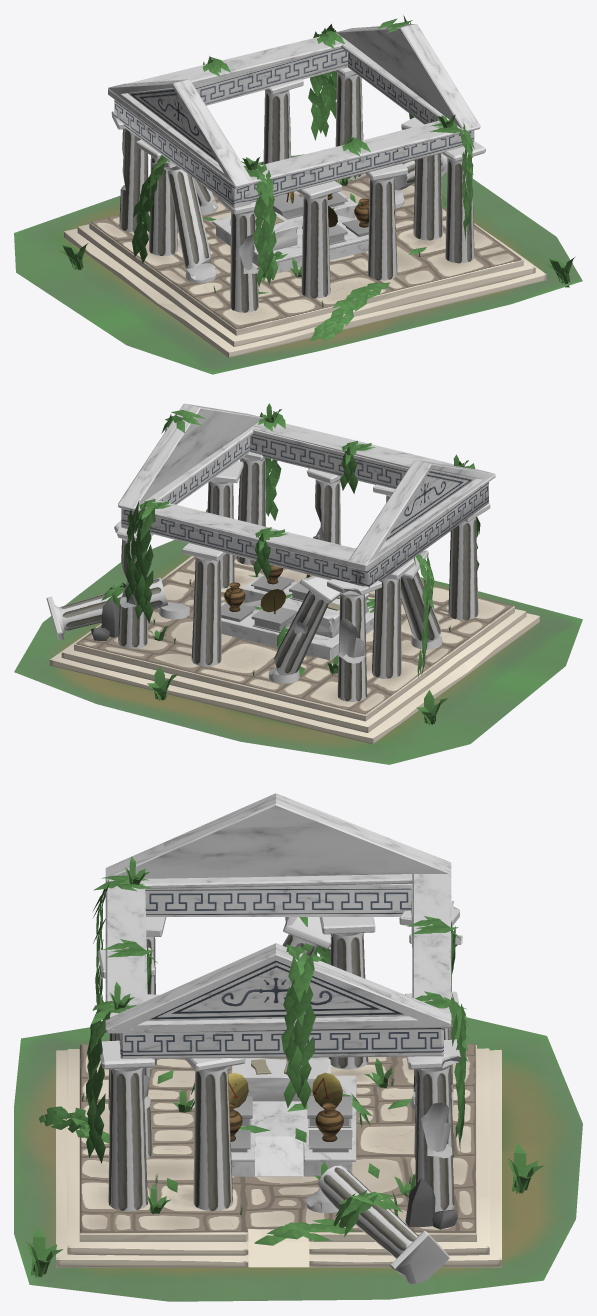
3 views of the same model, one above another, from view 1: azimuth 30°, elevation 25°; view 2: azimuth 150°, elevation 25°; view 3: azimuth 270°, elevation 25° (orthographic). The views are drawn at different scales.
Parts seen in each view (by area): view 1: Building_Material #108_0, Building_Material #109_0; view 2: Building_Material #108_0, Building_Material #109_0; view 3: Building_Material #108_0, Building_Material #109_0.
Boxes of the visible parts, x1=… form: Building_Material #108_0: x1=14, y1=15, x2=582, y2=374; Building_Material #109_0: x1=89, y1=173, x2=523, y2=335; Building_Material #108_0: x1=14, y1=403, x2=582, y2=764; Building_Material #109_0: x1=74, y1=555, x2=514, y2=721; Building_Material #108_0: x1=14, y1=793, x2=582, y2=1301; Building_Material #109_0: x1=79, y1=1044, x2=476, y2=1241.
Bounding box in the file's own units: 1276 × 677 × 1053.
Materials: 2 (2 with a texture image).
